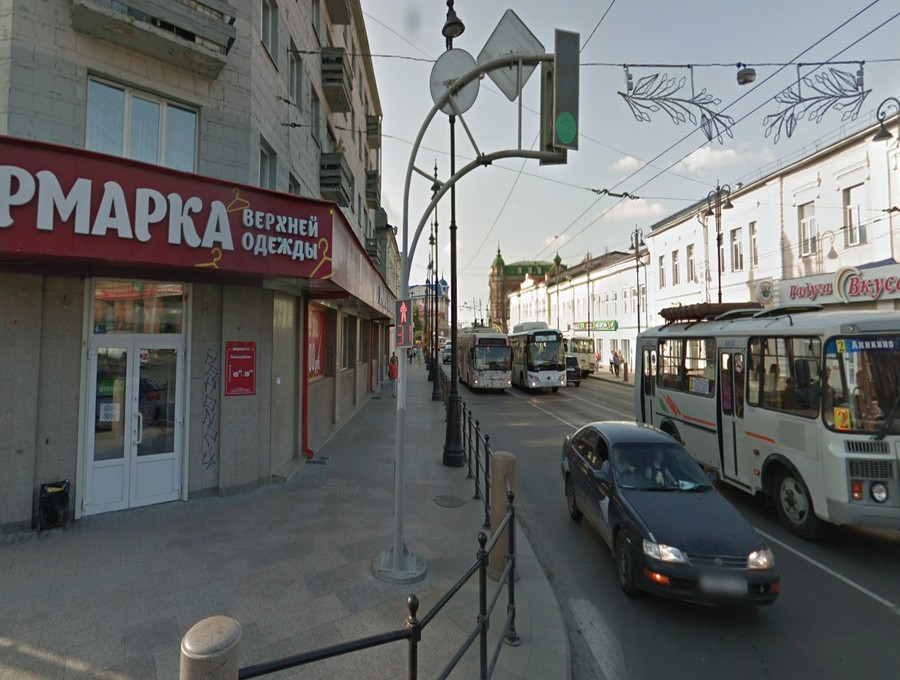Traffic Light-red: (395, 300, 414, 347)
